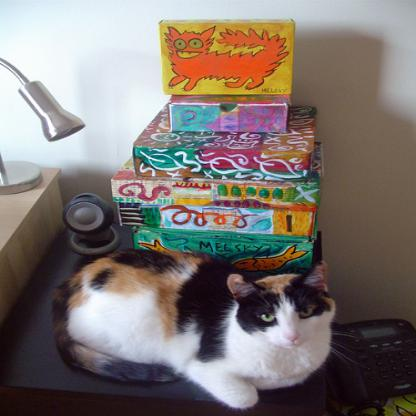cat: (50, 243, 344, 410)
